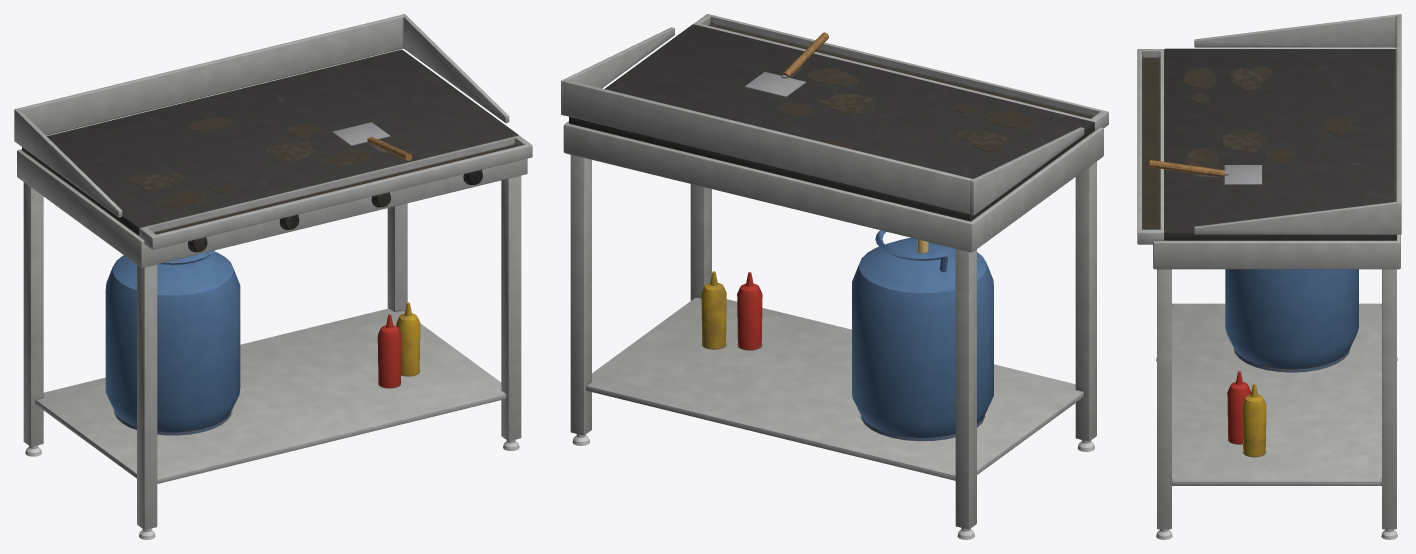
File: chapa_lanchonete.glb
The picture shows the model from 3 angles, left to right: view 1: azimuth 30°, elevation 25°; view 2: azimuth 150°, elevation 25°; view 3: azimuth 270°, elevation 25°; orthographic projection. The views are drawn at different scales.
Visible parts, largest first — view 1: chapa; view 2: chapa; view 3: chapa.
Boxes of the visible parts, x1,y1,x2,y2 form: chapa: (14,14,532,539); chapa: (561,14,1108,539); chapa: (1137,14,1401,539).
Size of the model in its own units: 1.19 by 1 by 0.704.
1 material, 1 textured.
